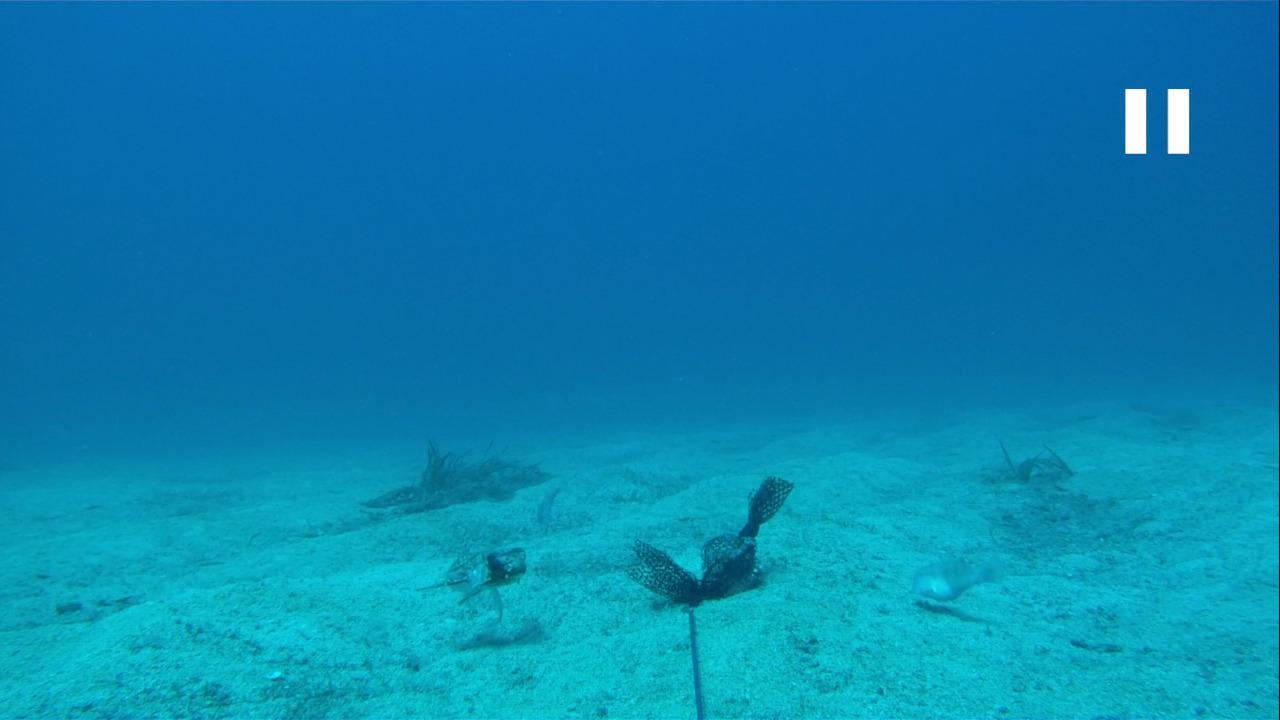dactylopterus: (420, 545, 538, 616)
raor: (906, 553, 997, 604)
